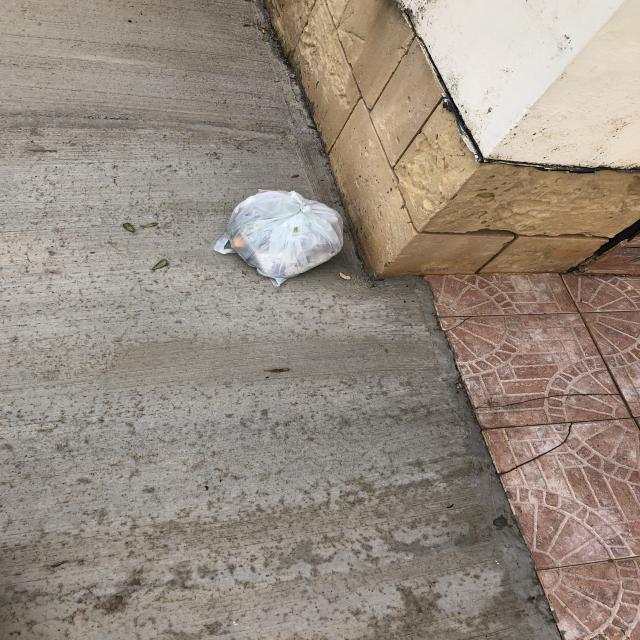Organic Waste -White Bag-: (217, 177, 352, 297)
